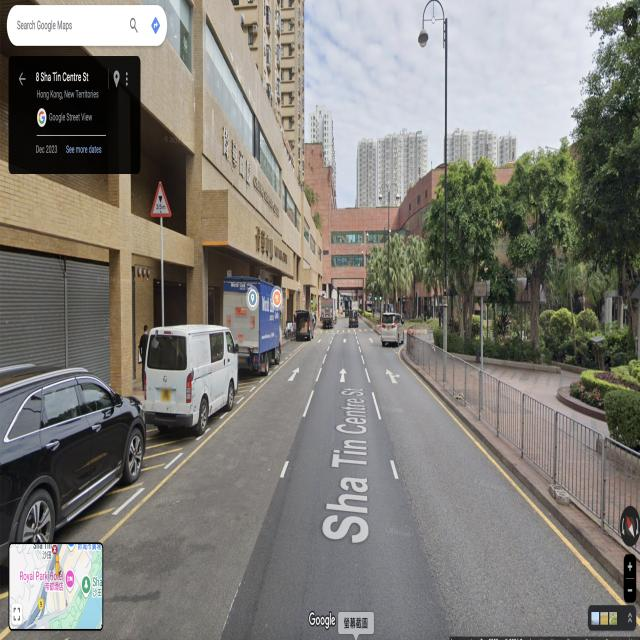Warning-Sign: (150, 182, 172, 216), (301, 292, 306, 302)
